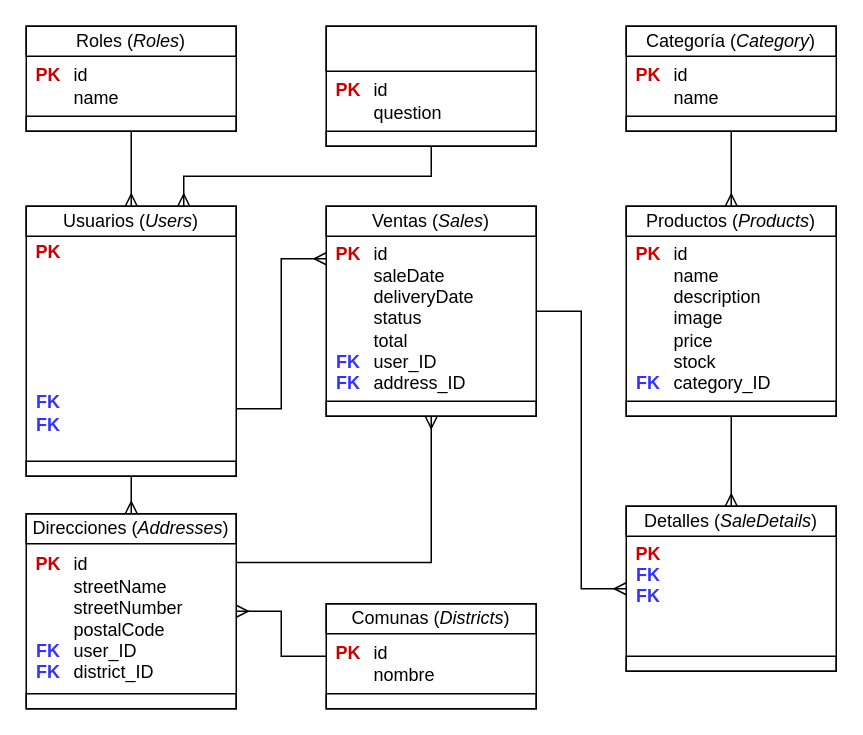
Image size: 863x735. Some labels were removed from this diagram. Here are the shapes that lost their labels. From the top down, the centre of each, then its label:
At [430,48]: "PreguntasSeguridad ( SecQuestions )".
At [153,348]: "id rut name surname mail phone password role_ID secQuestion_ID secAnswer".
At [753,596]: "id sale_ID product_ID units subtotal".
